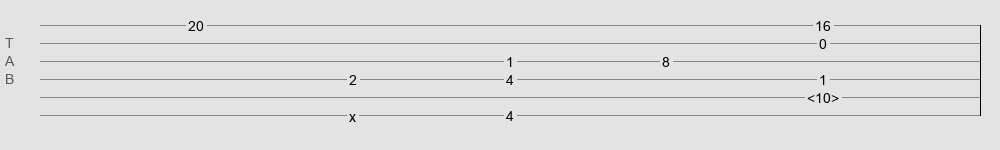0: (819, 36, 827, 46)
1: (506, 54, 514, 64), (819, 72, 827, 82)
16: (815, 18, 831, 28)
2: (349, 72, 357, 82)
20: (188, 18, 204, 28)
4: (506, 108, 514, 118), (506, 72, 514, 82)
8: (662, 54, 670, 64)
harmonic: (807, 90, 839, 100)
x: (349, 109, 356, 117)
